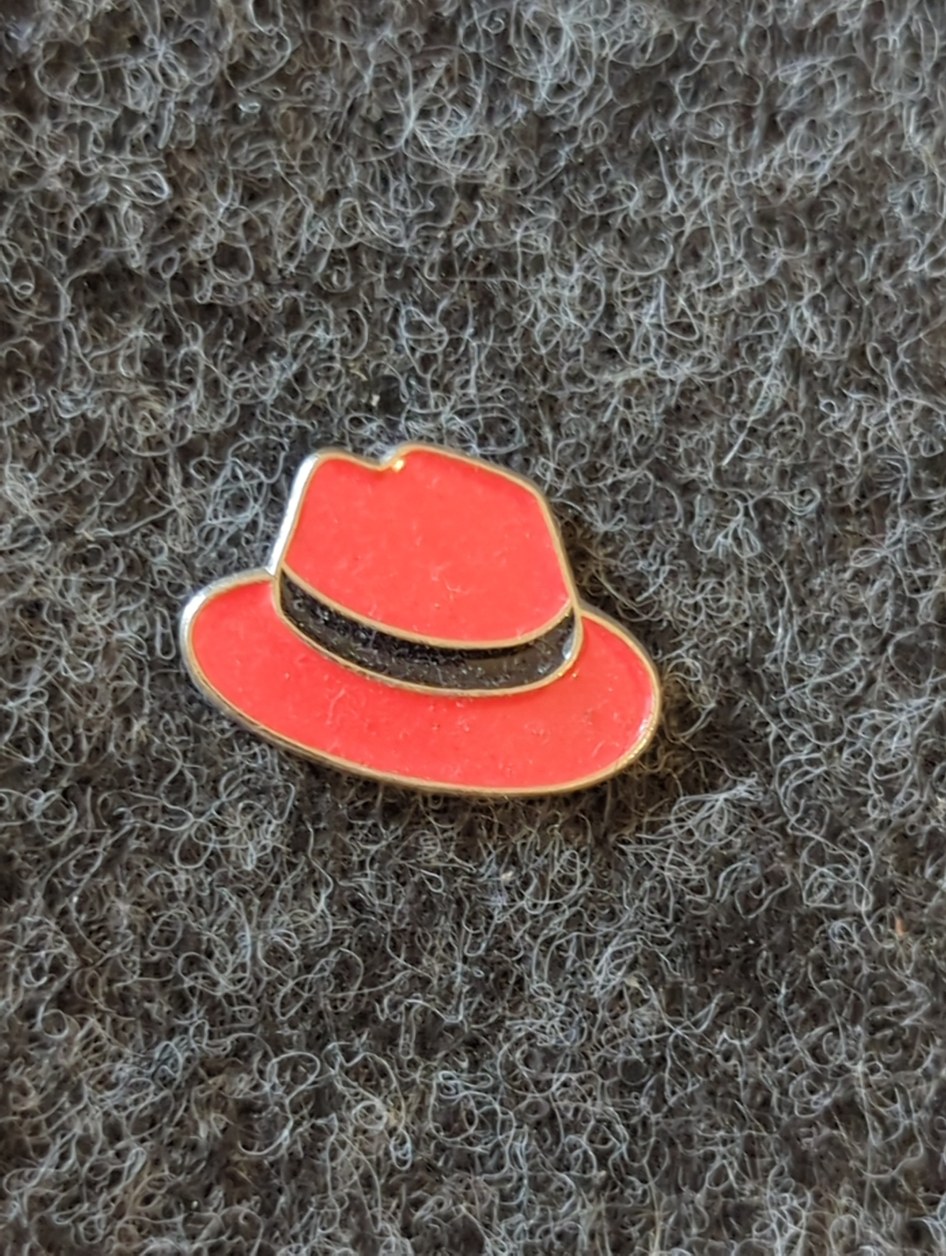Red-Hat: (77, 323, 779, 915)
